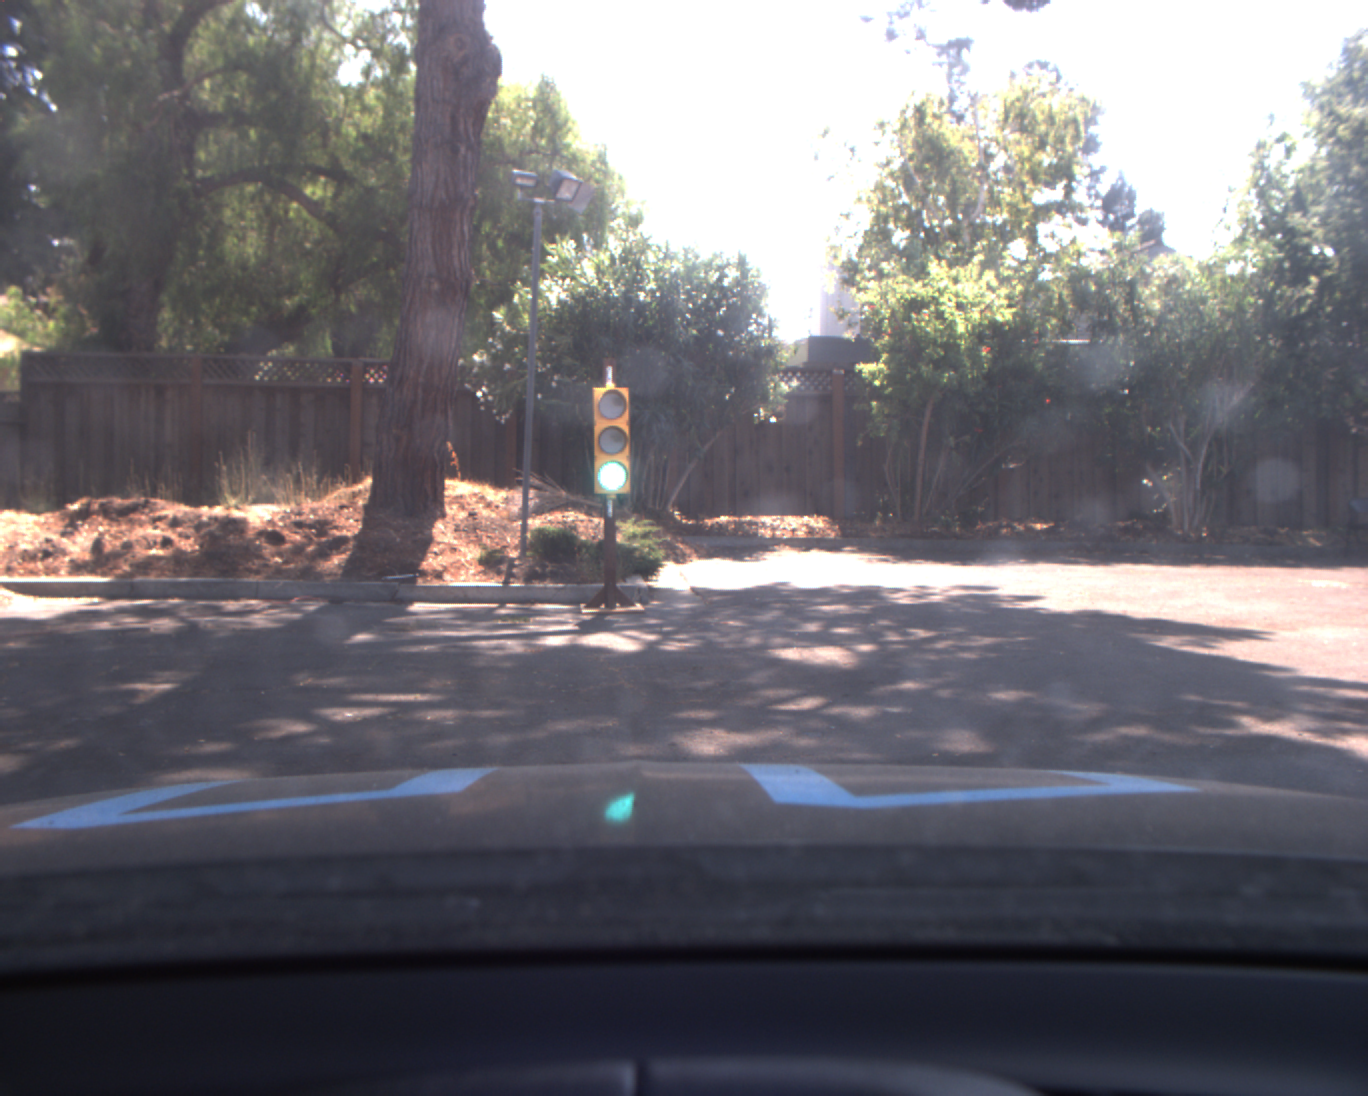green: (587, 380, 635, 497)
